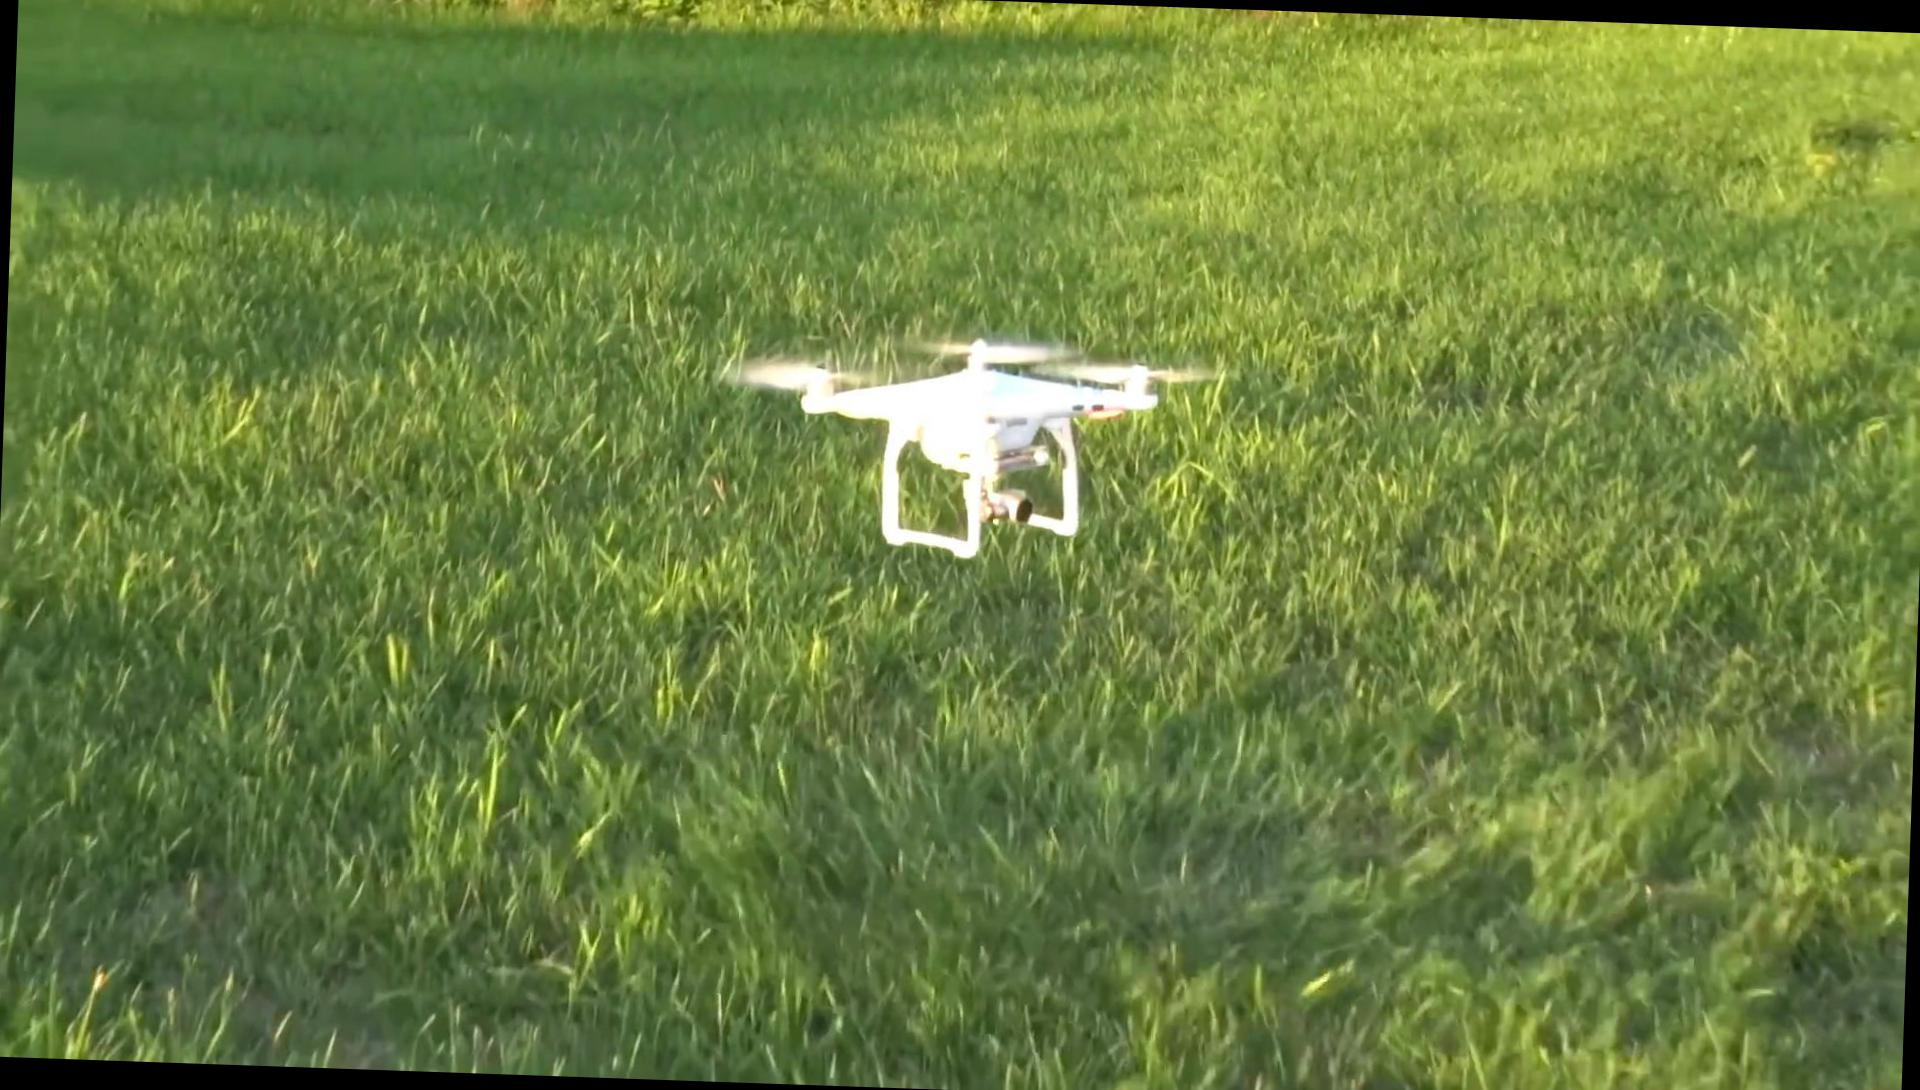drone: (770, 323, 1178, 572)
